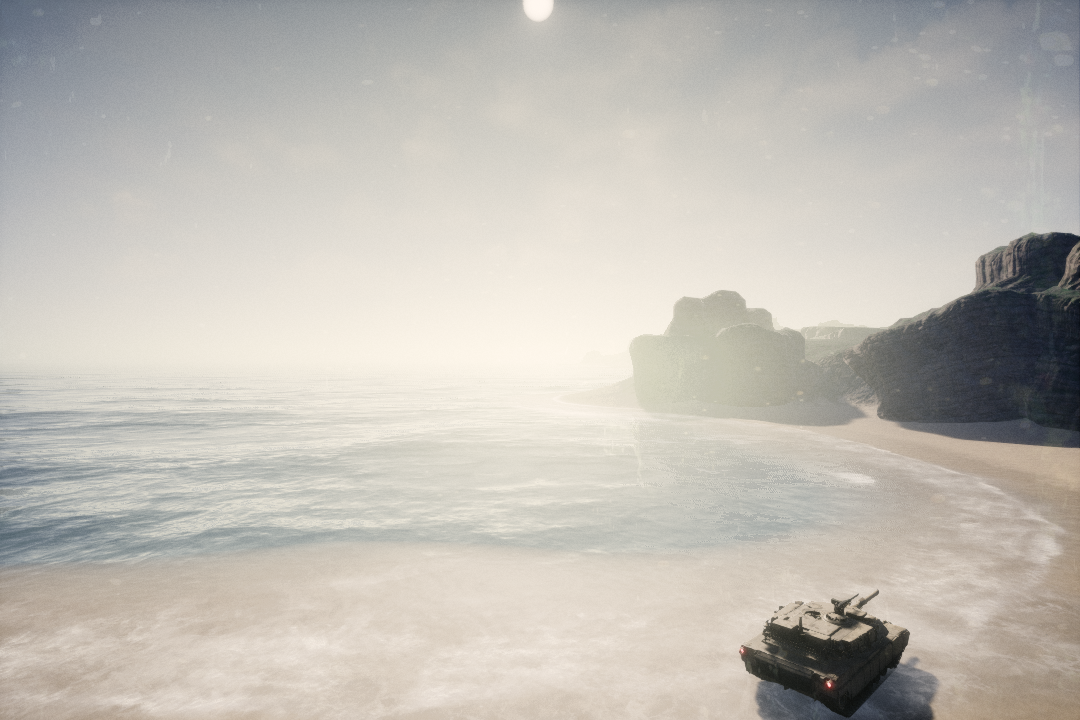tank: (731, 578, 921, 720)
